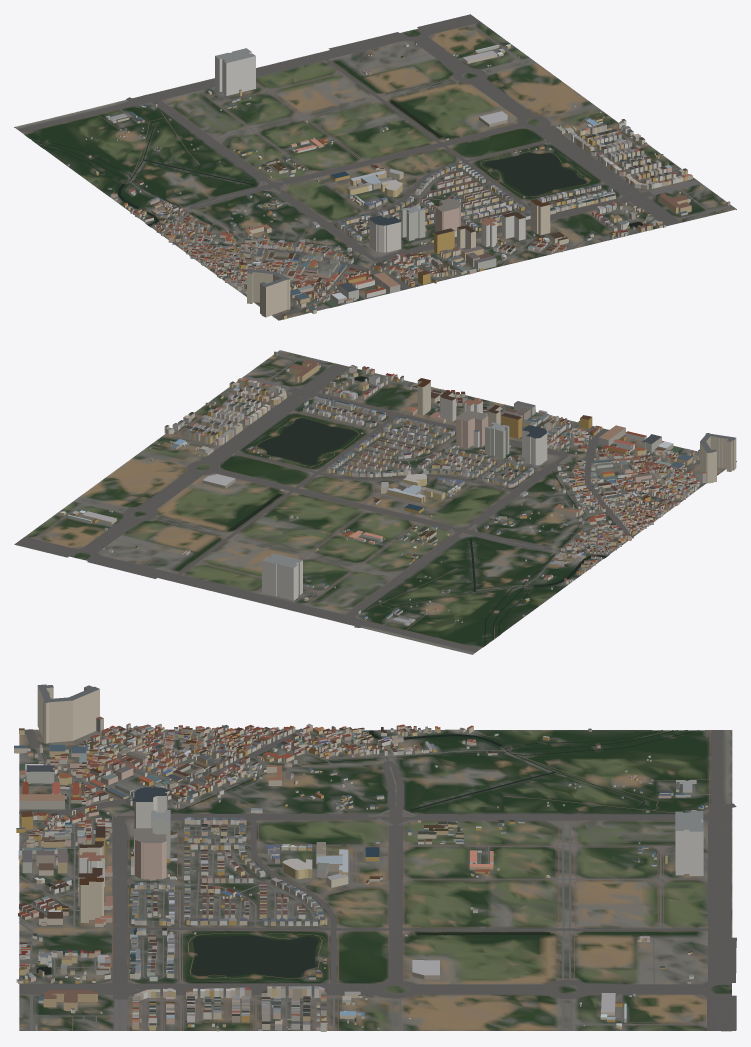
3 renders of one model, top to bottom at view 1: azimuth 30°, elevation 25°; view 2: azimuth 150°, elevation 25°; view 3: azimuth 270°, elevation 25°, orthographic. The views are drawn at different scales.
Visible parts, largest first — view 1: ground, buildings, roads, water; view 2: ground, buildings, roads, water; view 3: ground, buildings, roads, water.
Boxes of the visible parts, <box> form: ground: <box>14,22,736,320</box>; buildings: <box>66,42,730,319</box>; roads: <box>15,14,732,319</box>; water: <box>26,101,660,306</box>; ground: <box>25,350,736,654</box>; buildings: <box>59,351,736,626</box>; roads: <box>14,353,723,654</box>; water: <box>224,376,682,645</box>; ground: <box>19,729,732,1031</box>; buildings: <box>14,684,707,1031</box>; roads: <box>19,728,736,1030</box>; water: <box>20,730,698,1022</box>.
Size of the model in its own units: 1426 by 99.46 by 1422.
